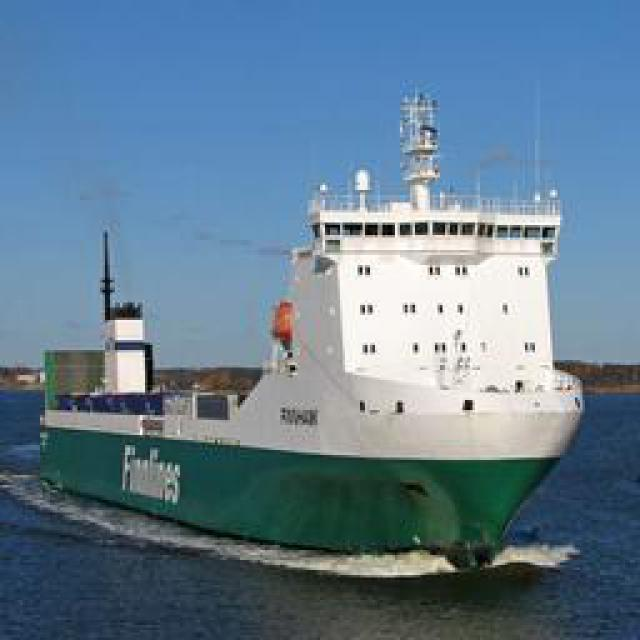Ship: (47, 40, 570, 580)
